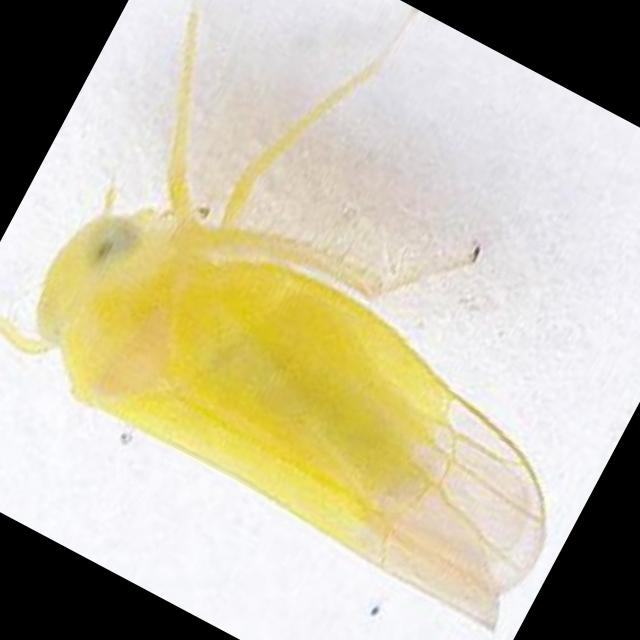green-leafhopper: (0, 133, 621, 640)
